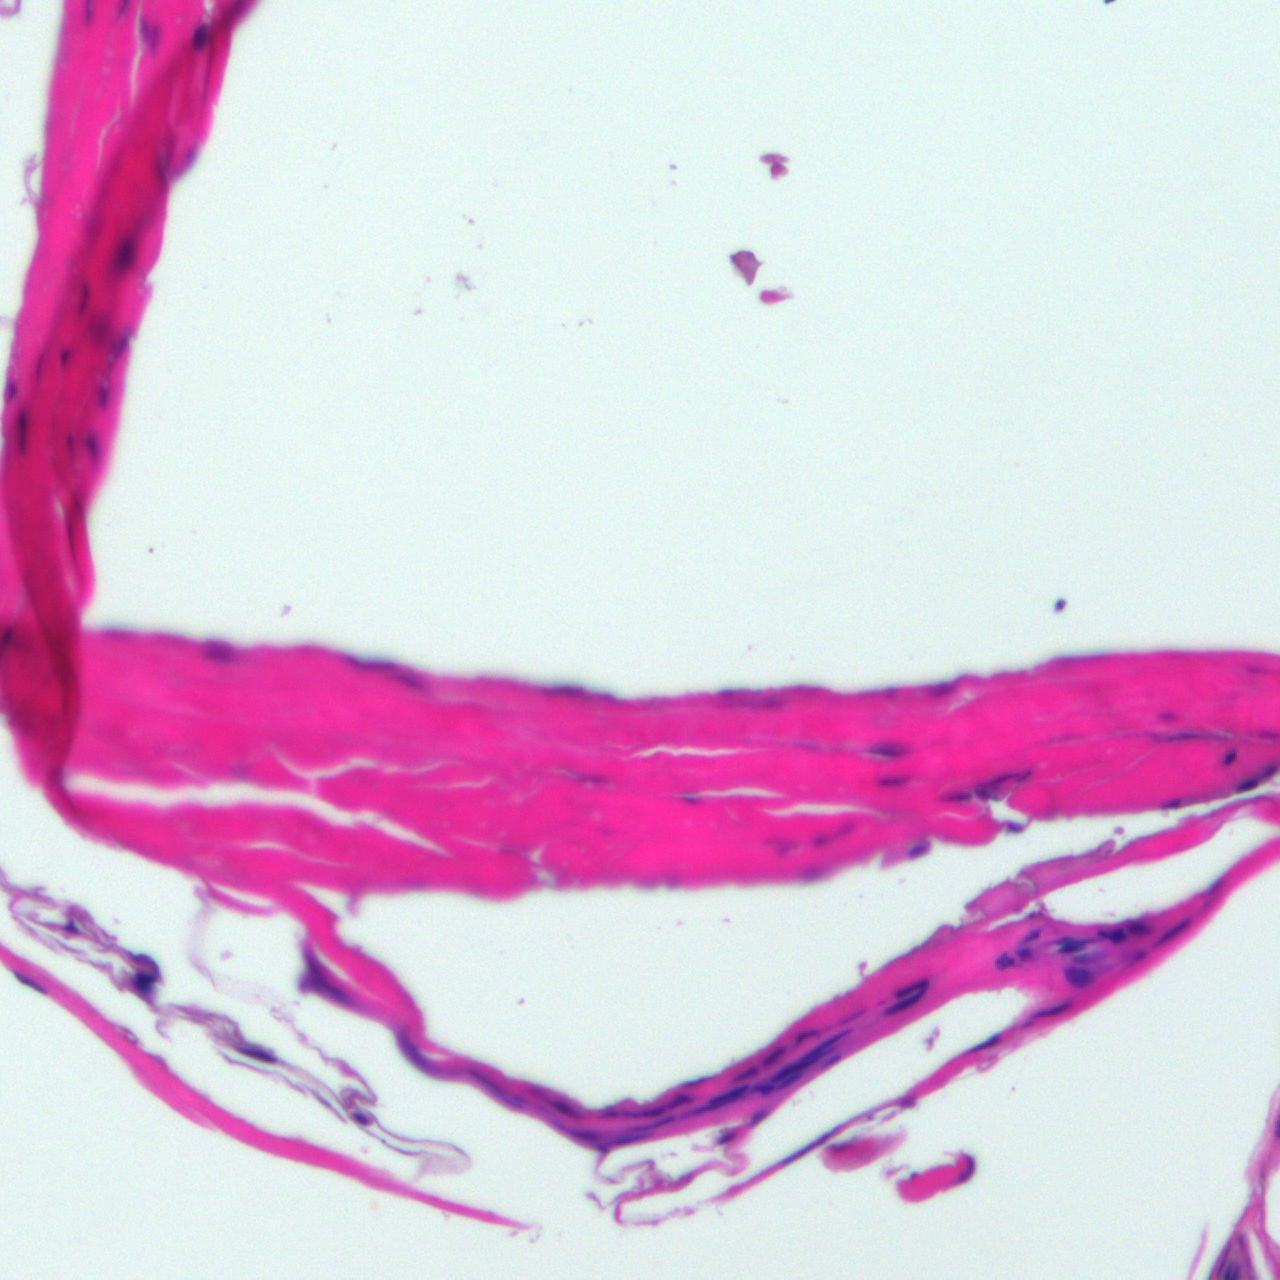dust: (1053, 595, 1067, 614)
nucleus-HE: (275, 937, 353, 1023), (770, 1026, 855, 1082), (972, 760, 1036, 799), (390, 1024, 438, 1077), (878, 975, 934, 1017), (782, 1126, 840, 1166), (810, 813, 857, 851), (543, 682, 620, 703), (98, 328, 132, 372), (703, 1083, 750, 1111), (11, 966, 52, 998), (468, 1069, 510, 1099), (1152, 915, 1190, 949), (1148, 728, 1232, 742), (556, 765, 607, 788), (341, 656, 404, 673), (132, 948, 165, 976), (865, 738, 908, 758), (111, 233, 132, 273), (196, 639, 232, 661), (239, 1044, 278, 1064), (1034, 999, 1070, 1020), (138, 15, 159, 50), (608, 1130, 651, 1148), (731, 1061, 761, 1084), (1056, 935, 1091, 954), (622, 1105, 665, 1121), (971, 1032, 1001, 1053), (549, 1095, 576, 1118), (86, 429, 103, 464), (15, 407, 27, 457), (1124, 946, 1150, 968), (763, 1042, 787, 1065), (958, 1153, 976, 1182), (1065, 965, 1089, 987), (877, 774, 913, 788), (131, 972, 154, 993), (1021, 924, 1044, 944), (95, 382, 111, 410), (745, 1107, 768, 1126), (1099, 927, 1126, 944), (1258, 761, 1279, 781), (685, 1074, 710, 1089), (1234, 776, 1258, 792), (994, 952, 1014, 969), (679, 787, 699, 804), (193, 23, 207, 48), (56, 345, 70, 368), (941, 791, 972, 802), (669, 1094, 694, 1107), (795, 1030, 819, 1042), (567, 1130, 597, 1139), (907, 842, 928, 855), (1126, 921, 1148, 934), (717, 1131, 735, 1146), (350, 1108, 366, 1124), (1221, 747, 1235, 764), (79, 280, 86, 313), (4, 382, 15, 400), (751, 1083, 772, 1092), (1005, 822, 1022, 831), (1016, 945, 1028, 958)
